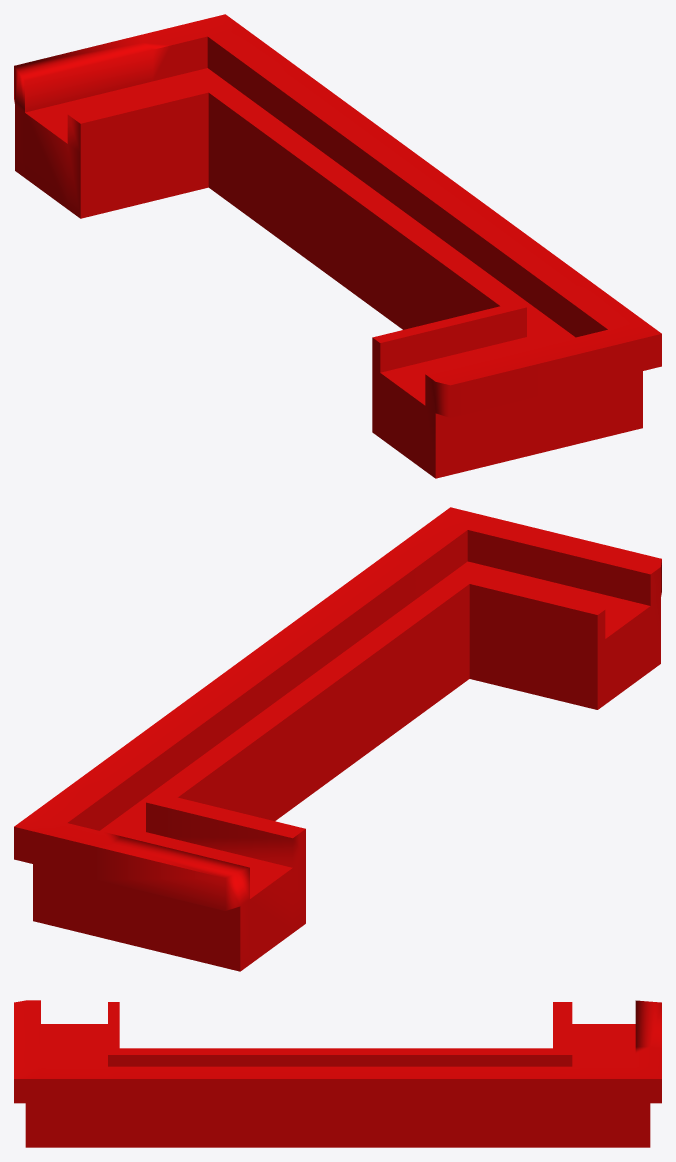
File: mdl_ciudadela_pared_izq.fbx
3 views of the same model, one above another, from view 1: azimuth 30°, elevation 25°; view 2: azimuth 150°, elevation 25°; view 3: azimuth 270°, elevation 25° (orthographic). The views are drawn at different scales.
Parts seen in each view (by area): view 1: mdl_ciudadela_pared_izq; view 2: mdl_ciudadela_pared_izq; view 3: mdl_ciudadela_pared_izq.
Part boxes in pixels (x1,y1,x2,y2): mdl_ciudadela_pared_izq: (14,14,661,478); mdl_ciudadela_pared_izq: (14,507,661,971); mdl_ciudadela_pared_izq: (14,1000,661,1147).
Size of the model in its own units: 9.85 by 4.21 by 34.11.
